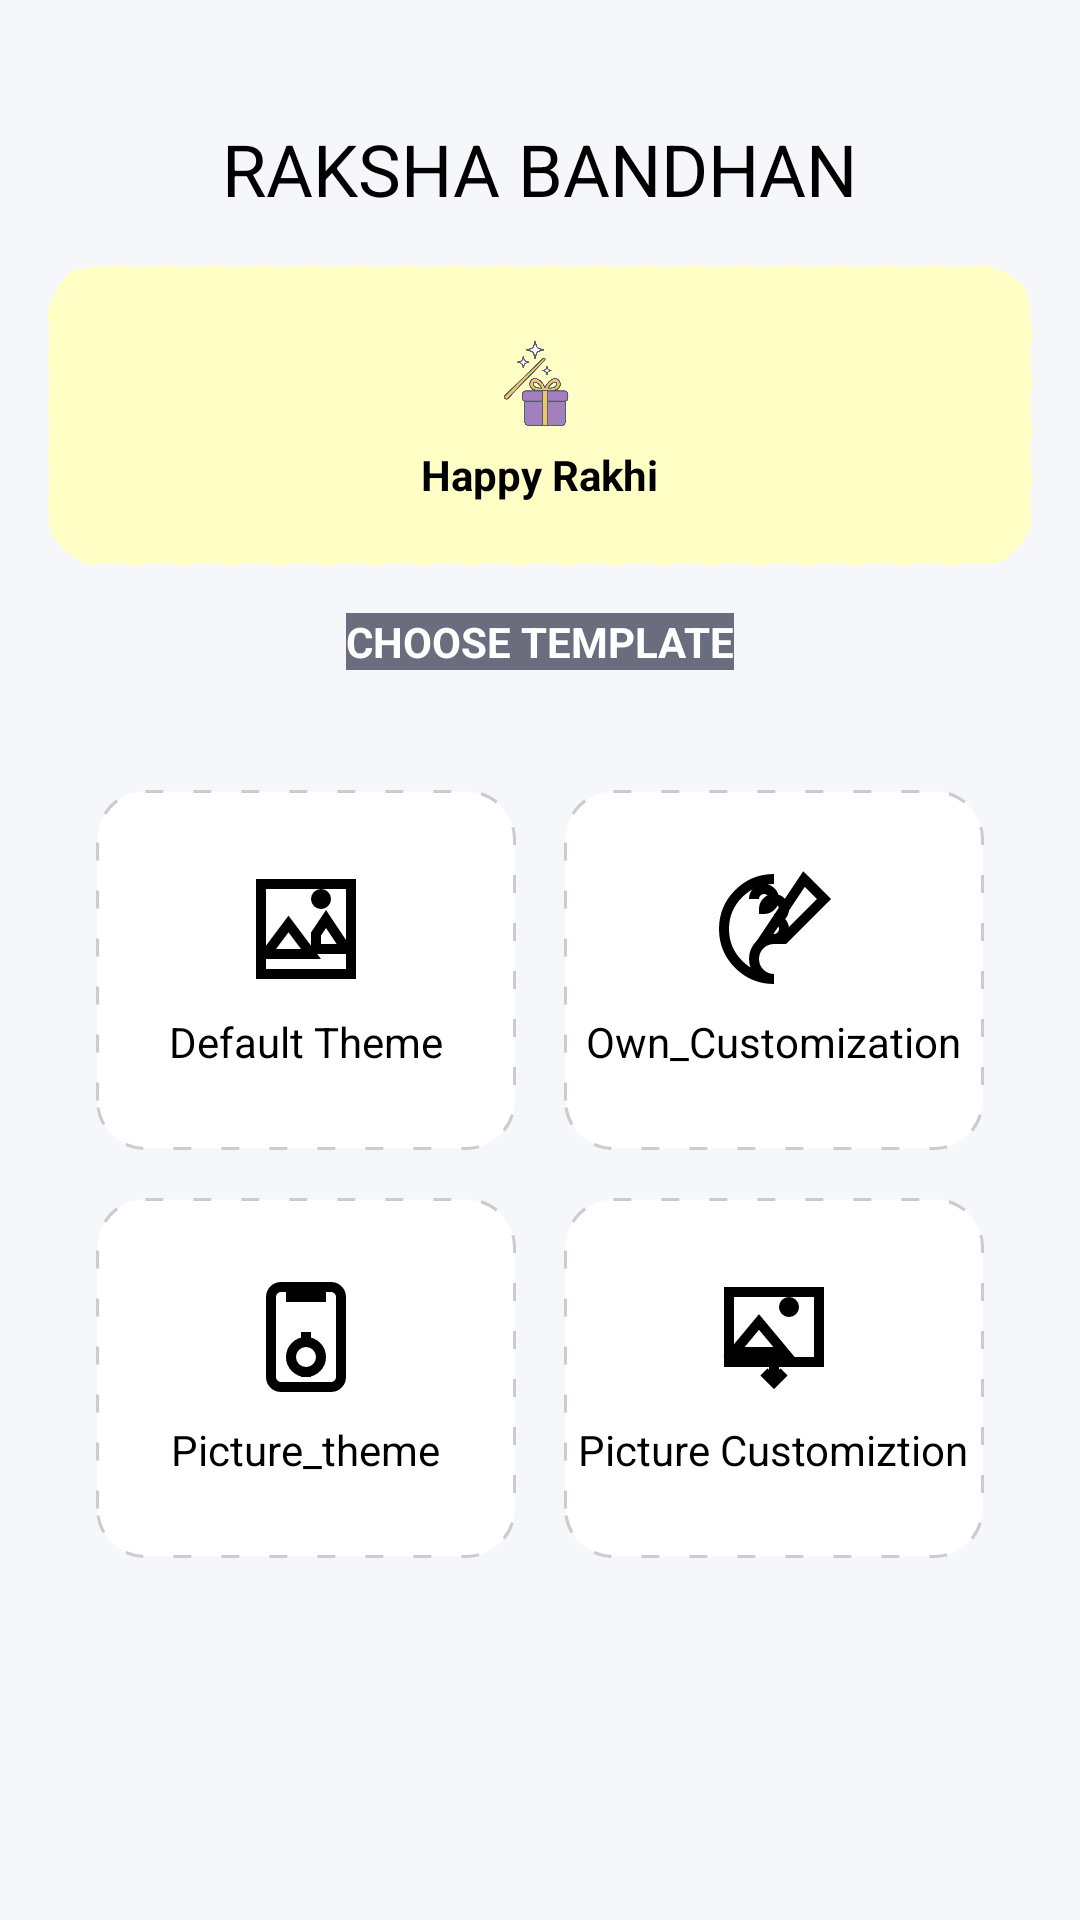

Where icons sit on this 1080×1920 app screen, as (x1, y1, x2, y2):
gift box: (504, 341, 569, 426)
